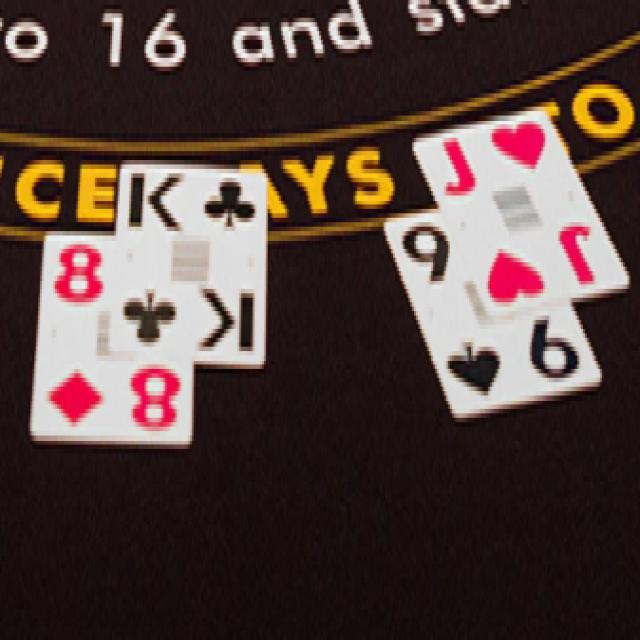Card-8: (30, 234, 193, 443)
Card-9: (383, 207, 601, 419)
Card-J: (413, 108, 629, 315)
Card-K: (109, 161, 267, 368)
